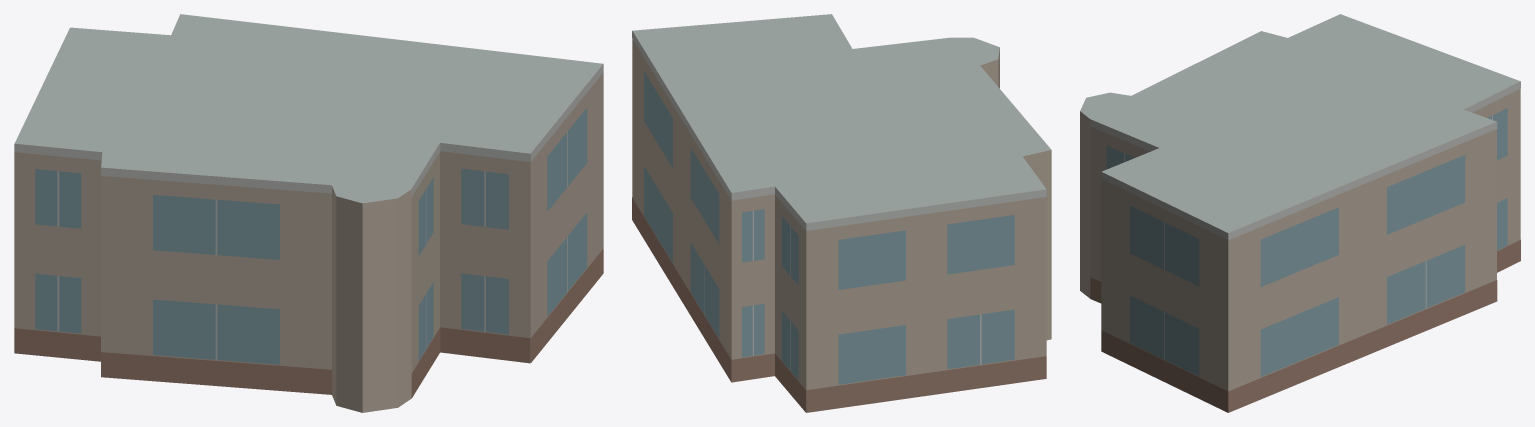
Rendered from survey-upis-32849215.glb.
3 renders of one model, left to right at view 1: azimuth 30°, elevation 25°; view 2: azimuth 150°, elevation 25°; view 3: azimuth 270°, elevation 25°, orthographic. The views are drawn at different scales.
Visible parts, largest first — view 1: survey-upis-32849215.tmp; view 2: survey-upis-32849215.tmp; view 3: survey-upis-32849215.tmp.
Part boxes in pixels (<box>): survey-upis-32849215.tmp: <box>14,14,603,412</box>; survey-upis-32849215.tmp: <box>632,14,1051,412</box>; survey-upis-32849215.tmp: <box>1080,14,1520,412</box>.
Size of the model in its own units: 15.96 by 6.1 by 13.56.
